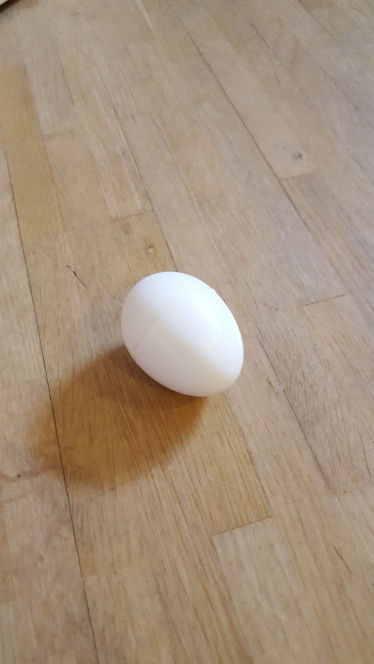egg: (120, 270, 244, 396)
